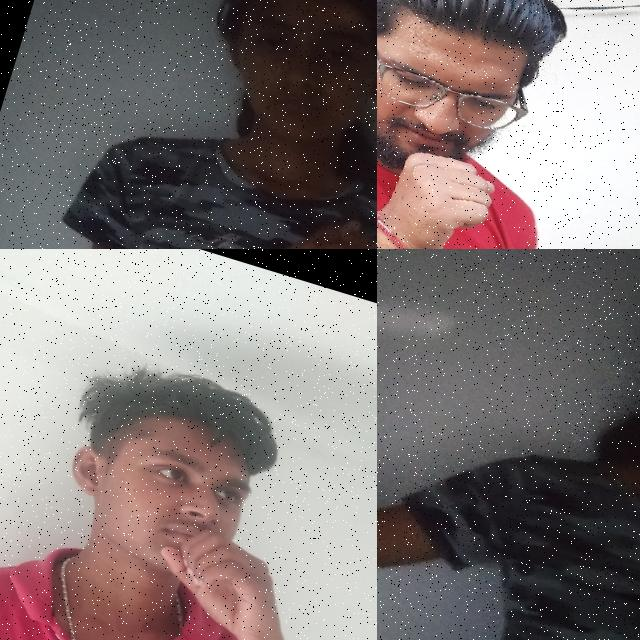Dulya: (250, 193, 377, 249)
Fist Mouth: (9, 332, 357, 640), (377, 0, 585, 249)
